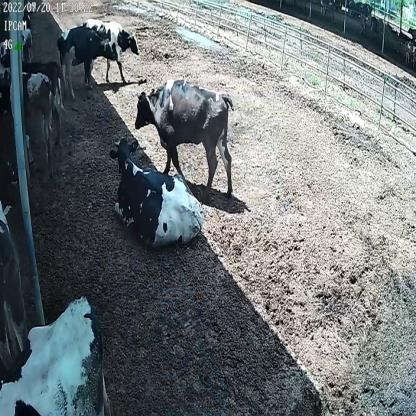cow: (133, 76, 238, 200), (106, 132, 206, 248), (55, 24, 115, 100), (83, 16, 142, 82)
